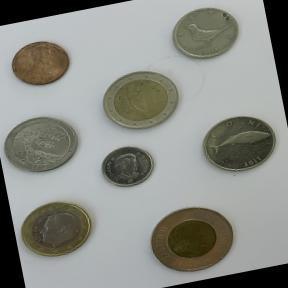coin: (138, 192, 244, 282), (90, 59, 187, 140), (190, 104, 286, 182), (12, 192, 102, 265), (0, 106, 85, 180), (2, 33, 76, 94), (94, 136, 160, 192)
